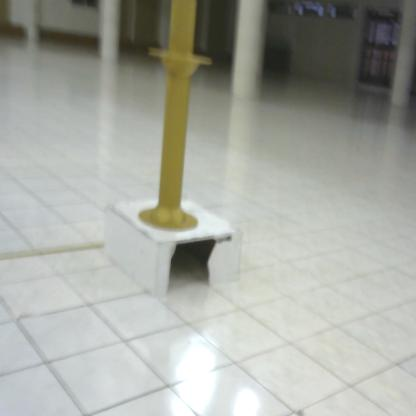pole: (140, 1, 216, 240)
